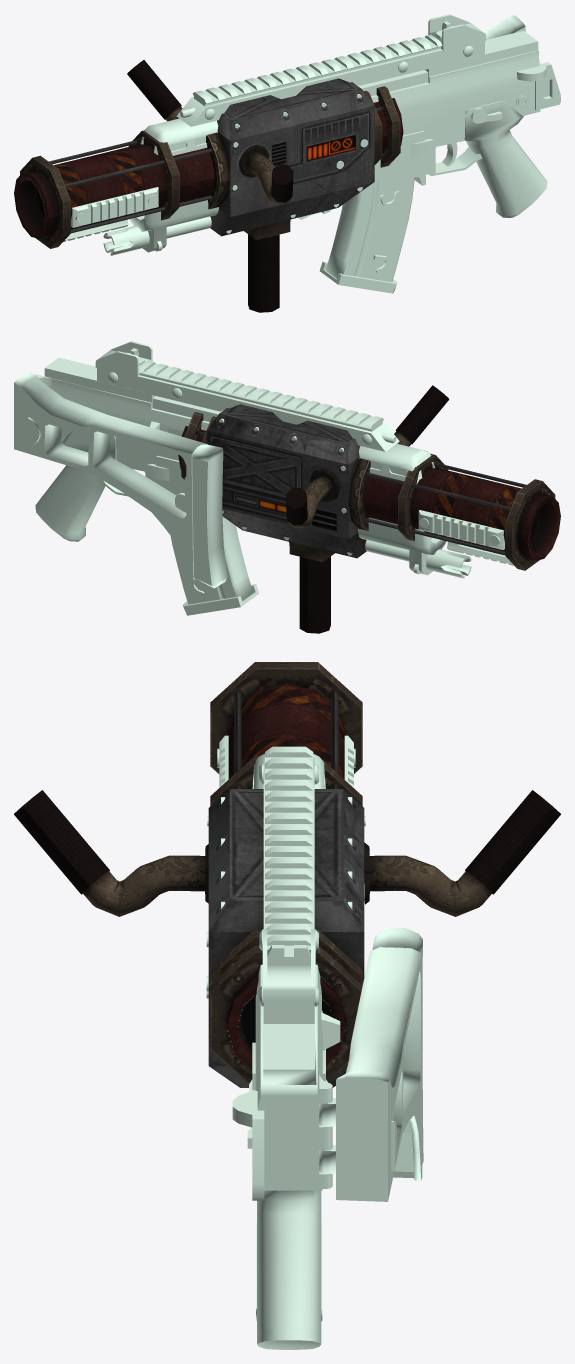
Rendered from G36_RocketLauncher.FBX.
3 renders of one model, top to bottom at view 1: azimuth 30°, elevation 25°; view 2: azimuth 150°, elevation 25°; view 3: azimuth 270°, elevation 25°, orthographic. The views are drawn at different scales.
Parts seen in each view (by area): view 1: G36_RocketLauncher; view 2: G36_RocketLauncher; view 3: G36_RocketLauncher.
Part boxes in pixels (bbox=[...]): G36_RocketLauncher: bbox=[14, 14, 560, 312]; G36_RocketLauncher: bbox=[14, 341, 560, 633]; G36_RocketLauncher: bbox=[14, 662, 560, 1349].
Size of the model in its own units: 7.45 by 3.44 by 3.85.
